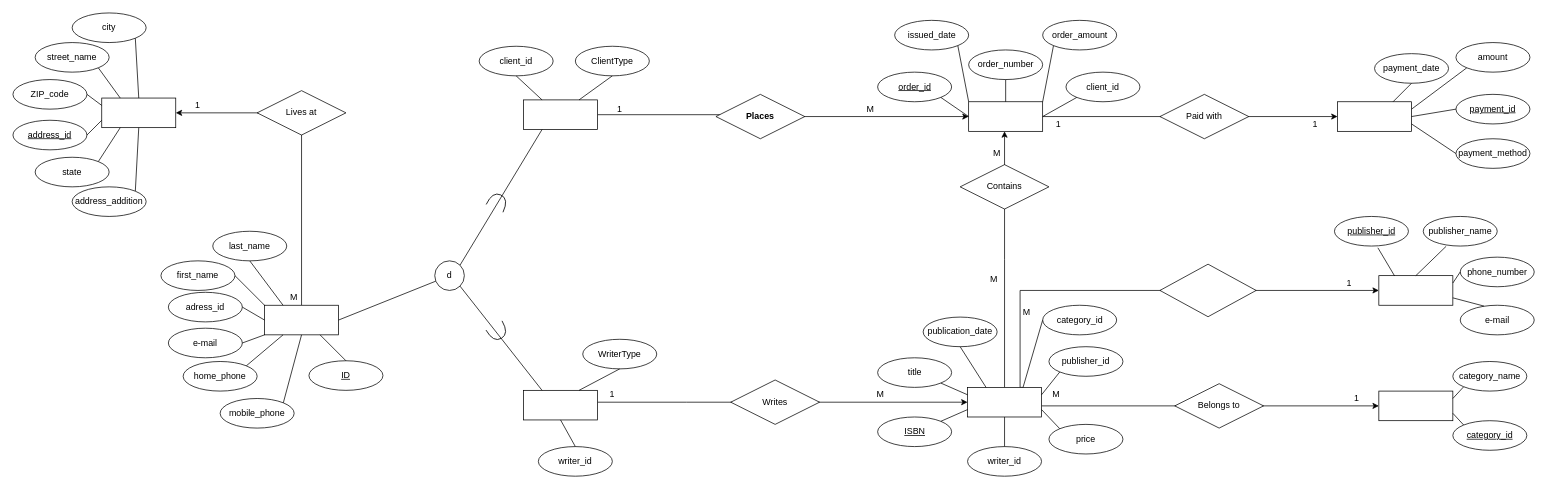
The diagram is 1547 pixels wide and 489 high, and some of its shapes have lost their labels. The centre of each missing label's shape, as x and y in pixels:
"Address" belongs at (138,112).
"Author" belongs at (560,405).
"Book" belongs at (1004,402).
"Category" belongs at (1415,405).
"Client" belongs at (560,114).
"Order" belongs at (1005,116).
"Payment" belongs at (1374,116).
"Person" belongs at (301,320).
"Published by" belongs at (1207,290).
"Publisher" belongs at (1415,290).
